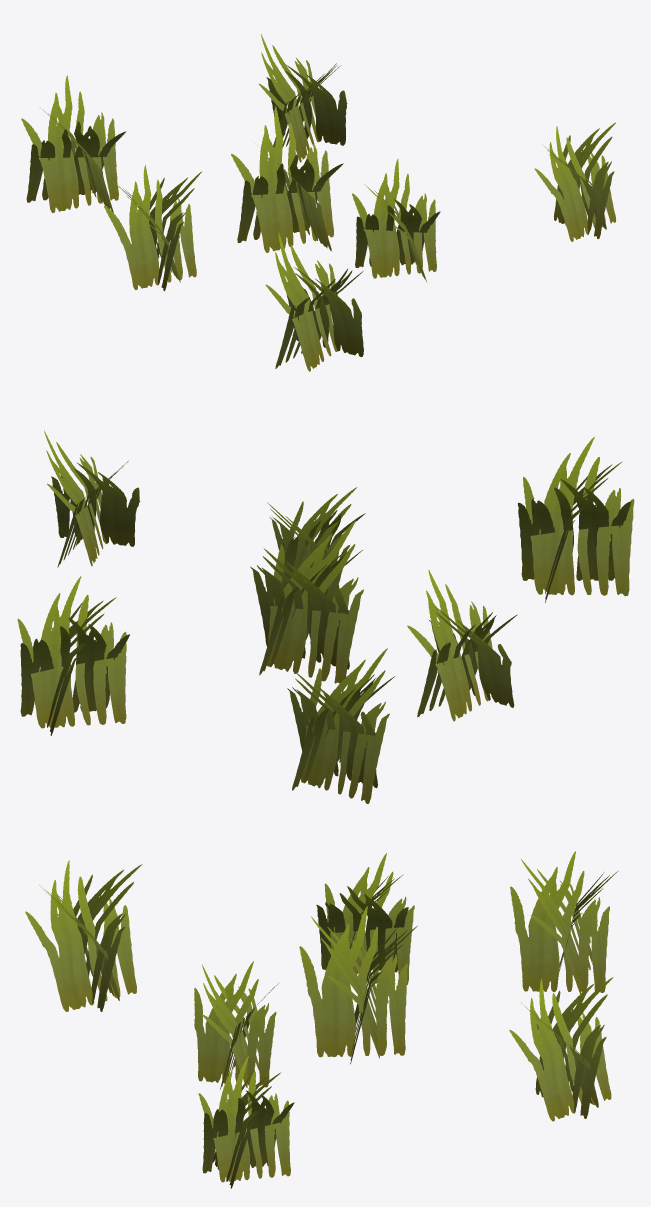
File: Grass02.fbx
The picture shows the model from 3 angles, top to bottom: view 1: azimuth 30°, elevation 25°; view 2: azimuth 150°, elevation 25°; view 3: azimuth 270°, elevation 25°; orthographic projection. The views are drawn at different scales.
Parts seen in each view (by area): view 1: Grass02; view 2: Grass02; view 3: Grass02.
Boxes of the visible parts, x1=… form: Grass02: x1=21, y1=34, x2=616, y2=371; Grass02: x1=17, y1=430, x2=634, y2=803; Grass02: x1=25, y1=851, x2=617, y2=1188.
Size of the model in its own units: 1.96 by 2.08 by 0.5139.
1 material, 1 textured.
